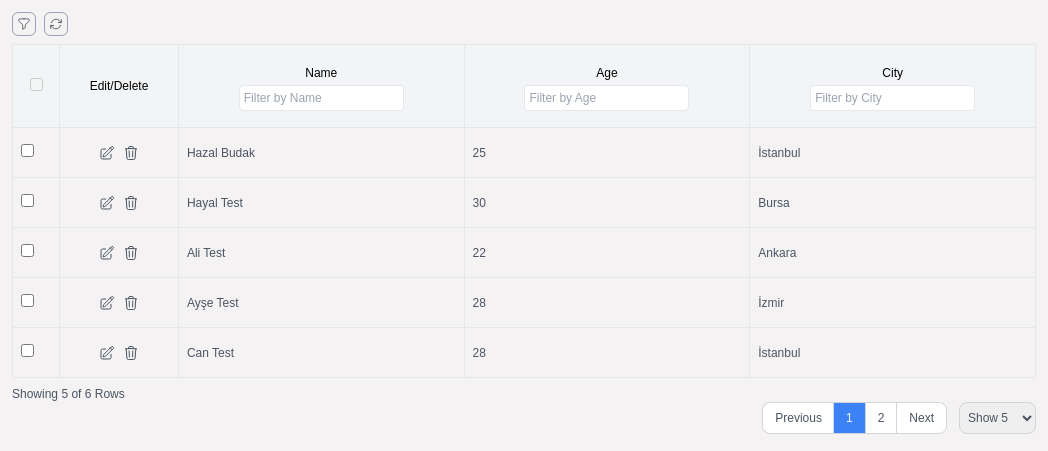
Test: DataTable Component Tests › filters and hides columns correctly
Click the icon with test id "funnel-icon" at (24, 24), box [12, 12, 36, 36]
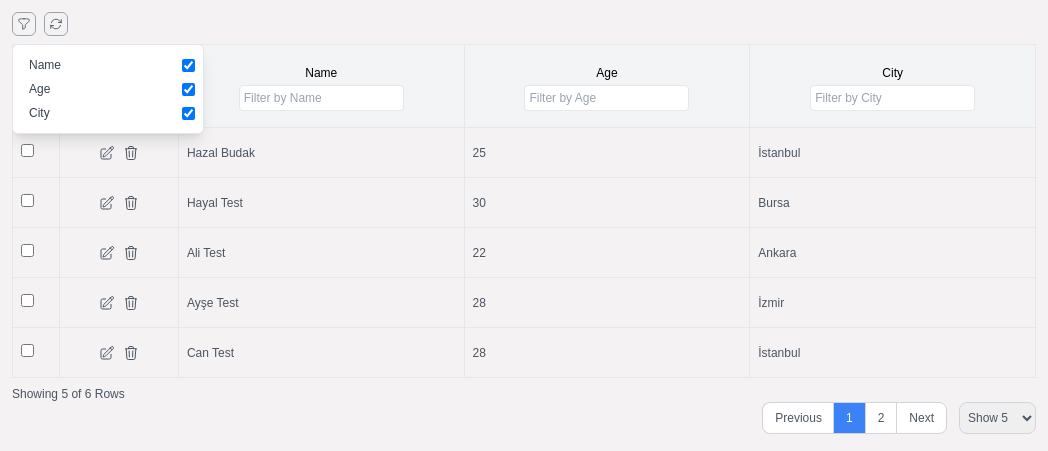
Click the checkbox named "Name" at (188, 65), box [182, 58, 195, 72]
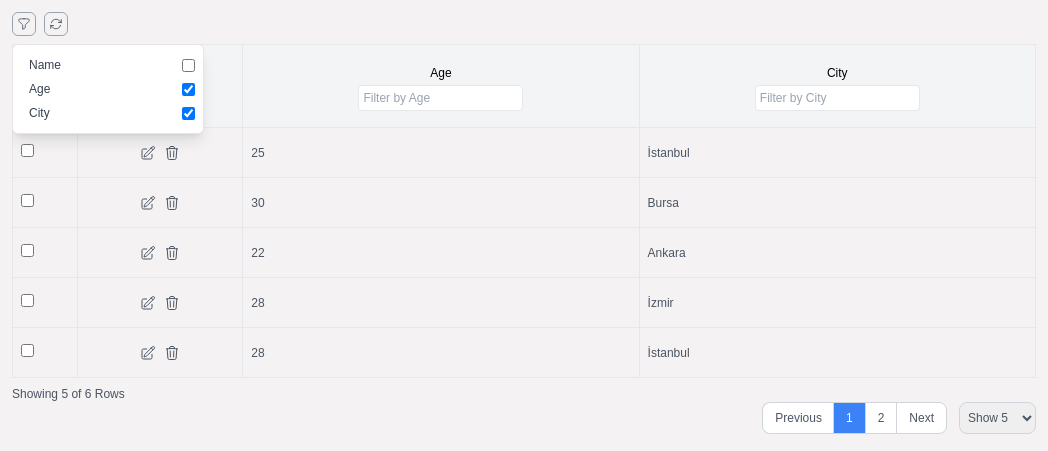
Check: the column heading does not show "Name"
Check: the text "Hazal Budak" is gone
Check: the text "Hayal Test" is gone
